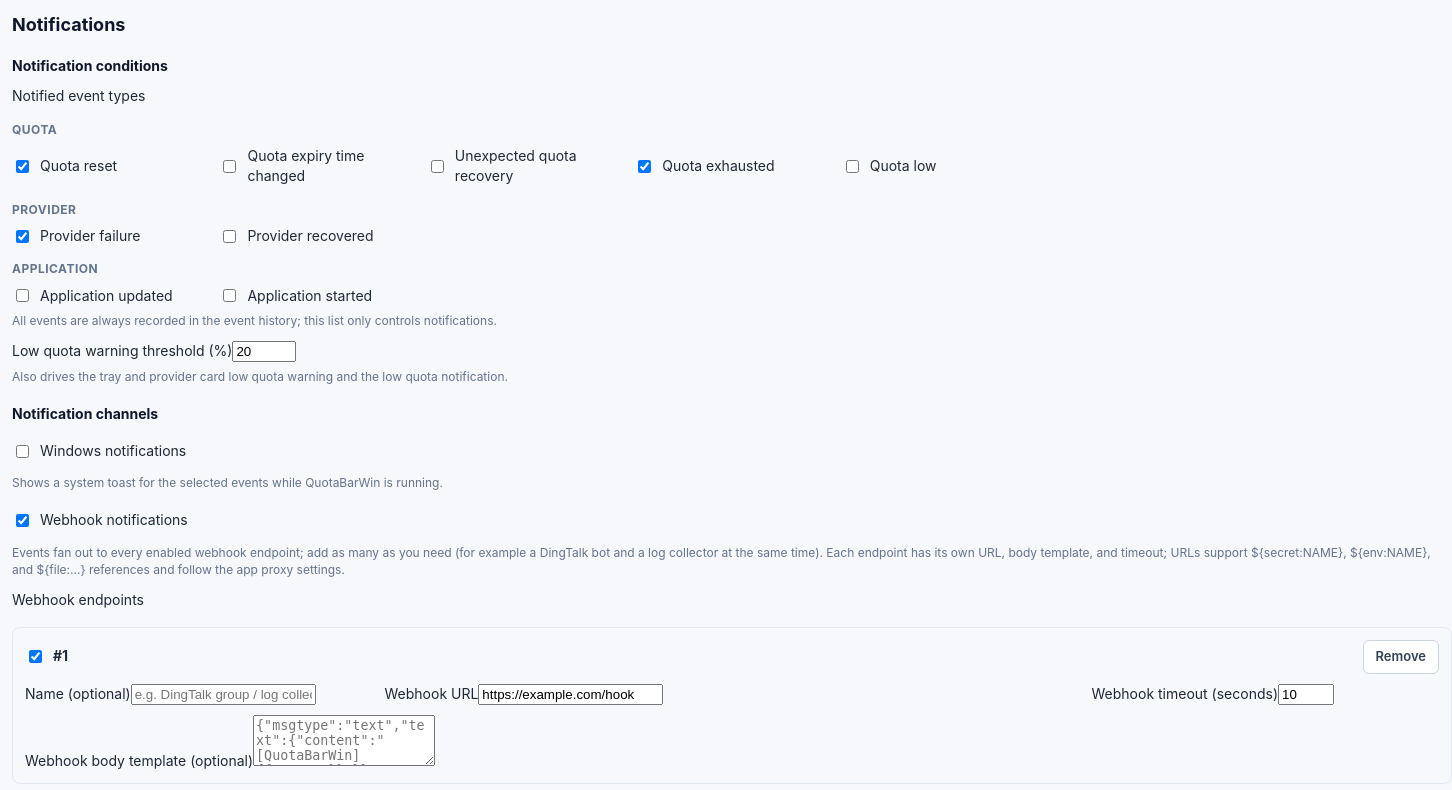
Test: NotificationSettingsSection › invalid timeout values are rejected with an error message
Replace the text in the number field with test id "notification-webhook-timeout-0" with "500" at point(1306, 694), box 1278,684 -> 1334,705
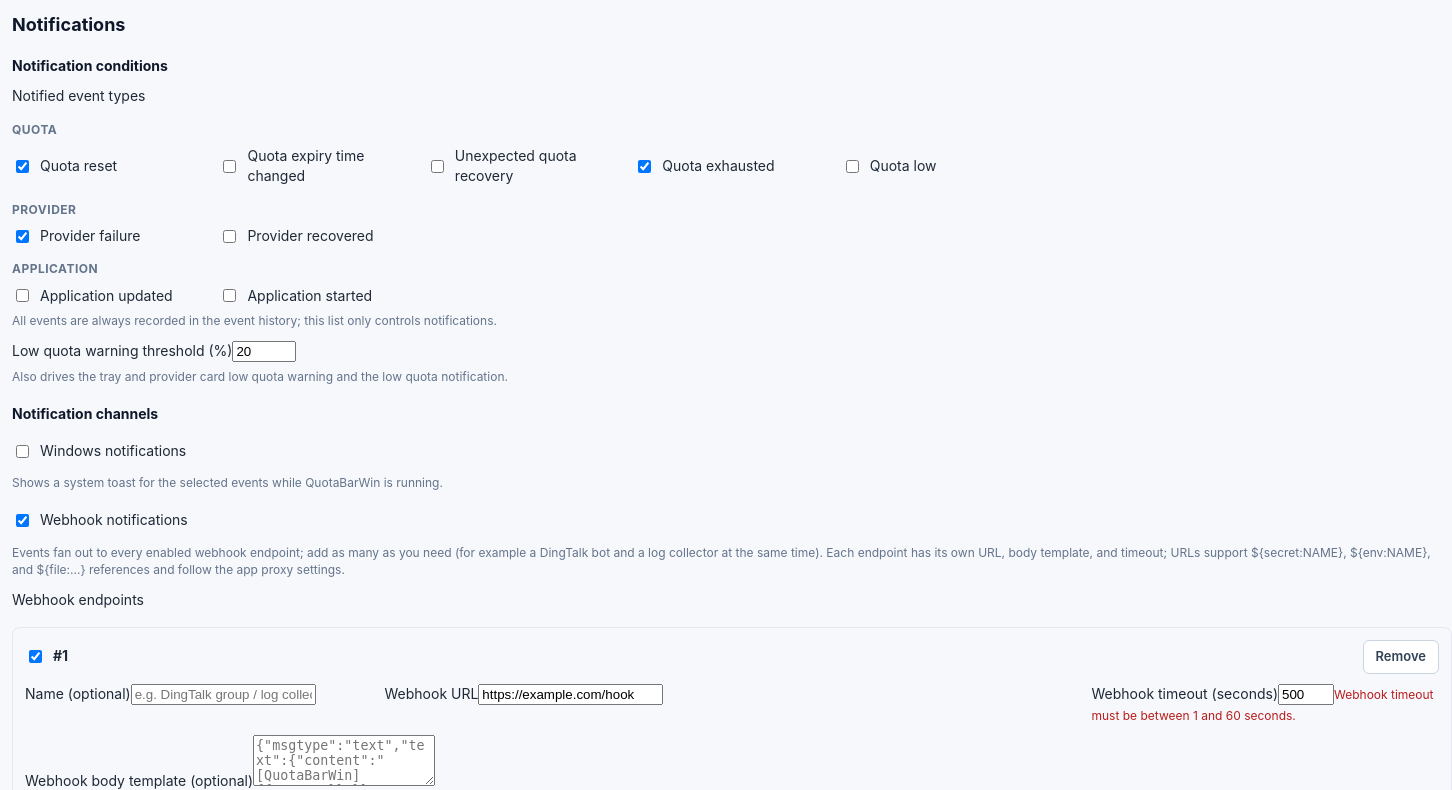
Result: the text "Webhook timeout must be between 1 and 60 seconds." is shown at 1092,687 -> 1434,723
